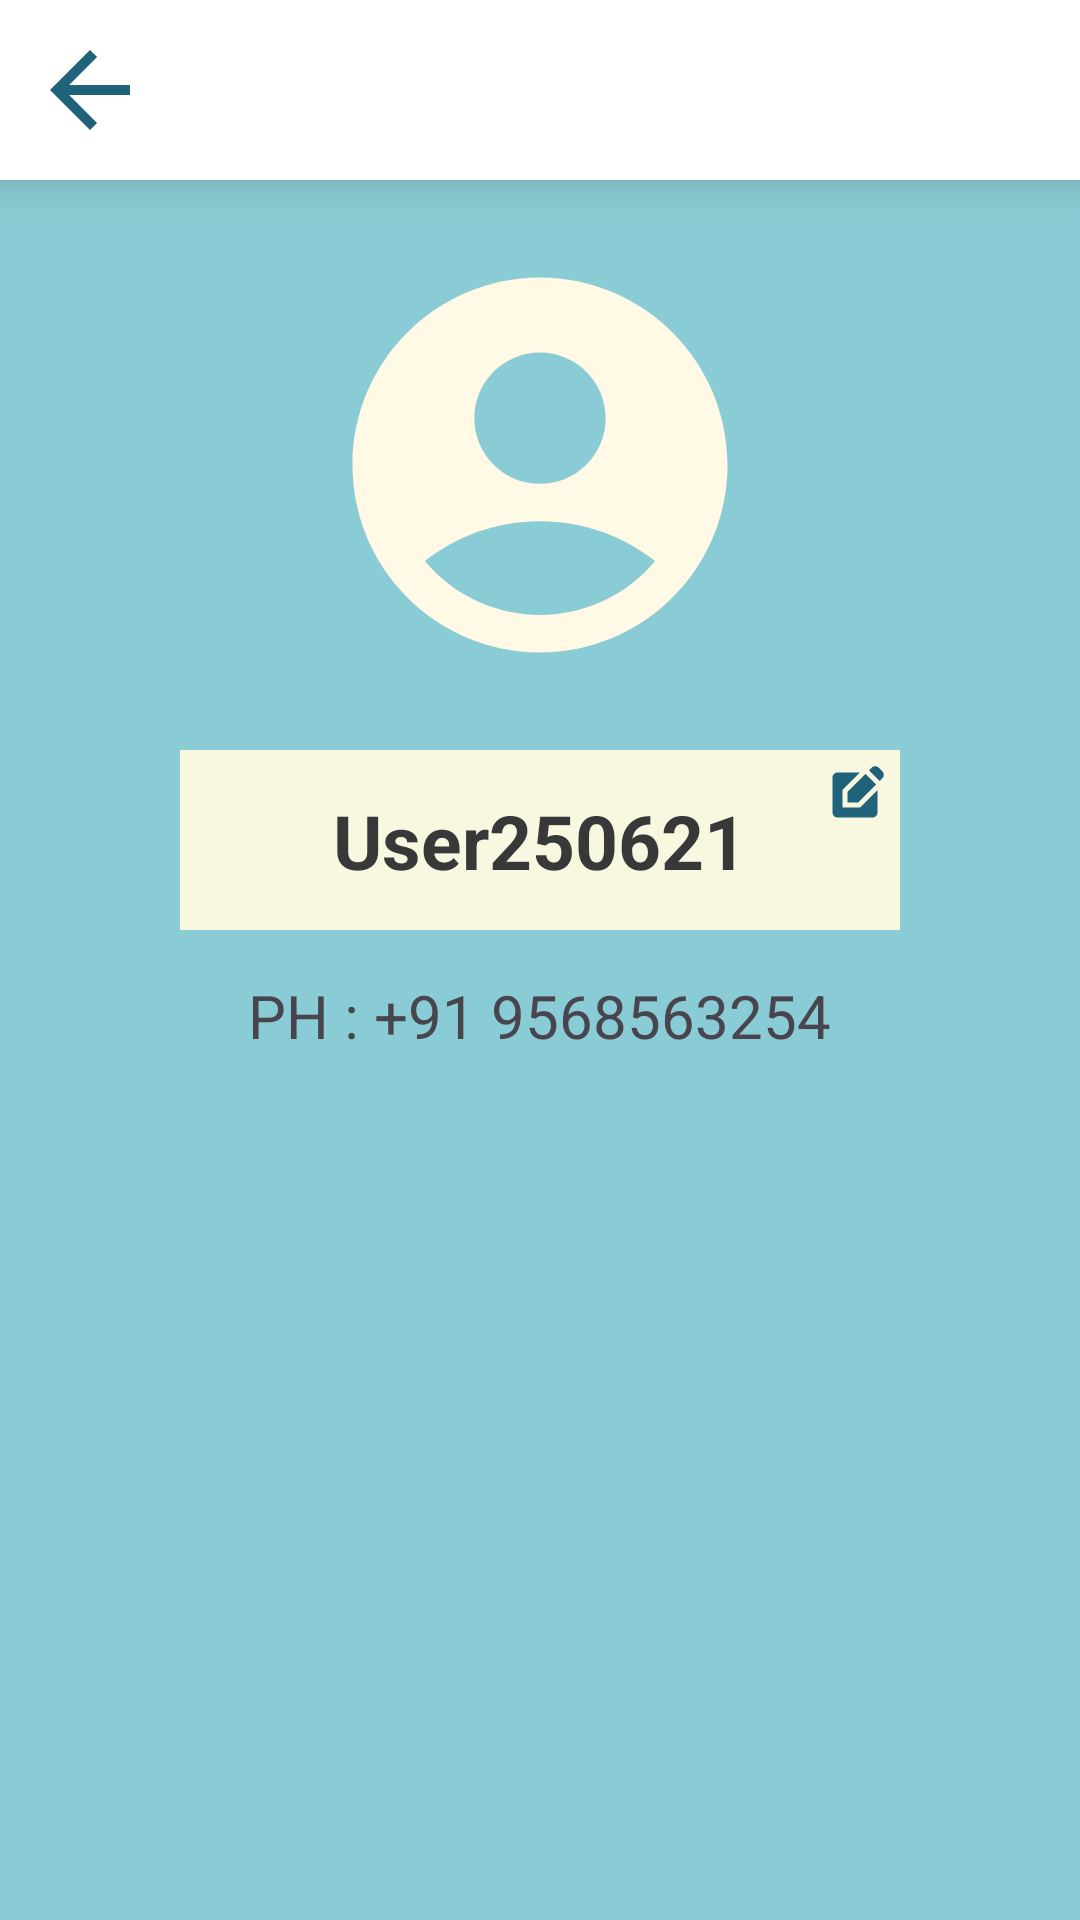

Icon bounding boxes for this 1080w x 1920h phone screenshot, format (x1, y1, x2, y2):
arrow back: (50, 50, 130, 130)
edit square: (832, 766, 884, 818)
